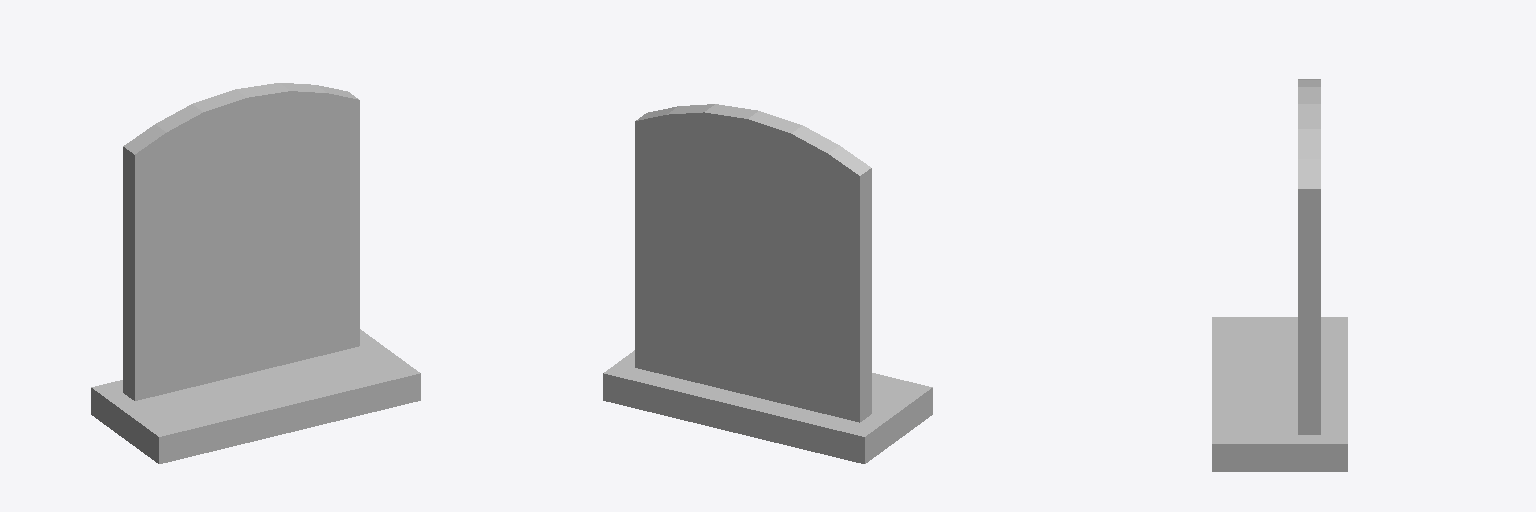
File: headstone_03.obj
3 views of the same model, side by side, from view 1: azimuth 30°, elevation 25°; view 2: azimuth 150°, elevation 25°; view 3: azimuth 270°, elevation 25° (orthographic).
Parts seen in each view (by area): view 1: headstone_03; view 2: headstone_03; view 3: headstone_03.
Part boxes in pixels (left/top/right/bottom): headstone_03: left=91, top=83, right=420, bottom=463; headstone_03: left=603, top=104, right=932, bottom=463; headstone_03: left=1212, top=79, right=1347, bottom=471.
Bounding box in the file's own units: 1 × 1.11 × 0.45.